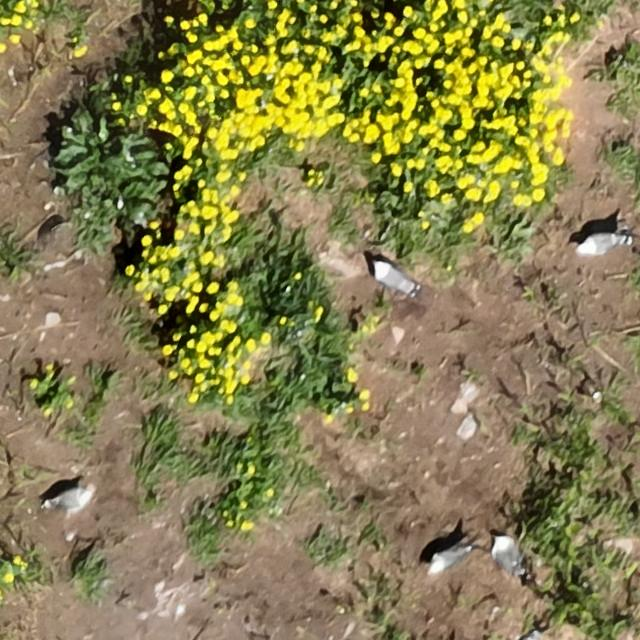umineko: (377, 263, 415, 293), (493, 539, 520, 573), (579, 232, 618, 254), (50, 489, 89, 510), (431, 547, 466, 570)
